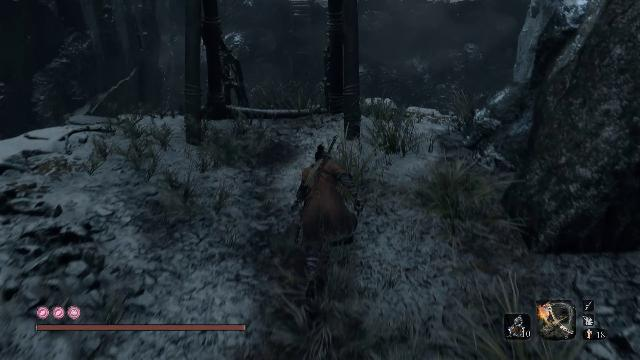sk: (289, 136, 364, 303)
